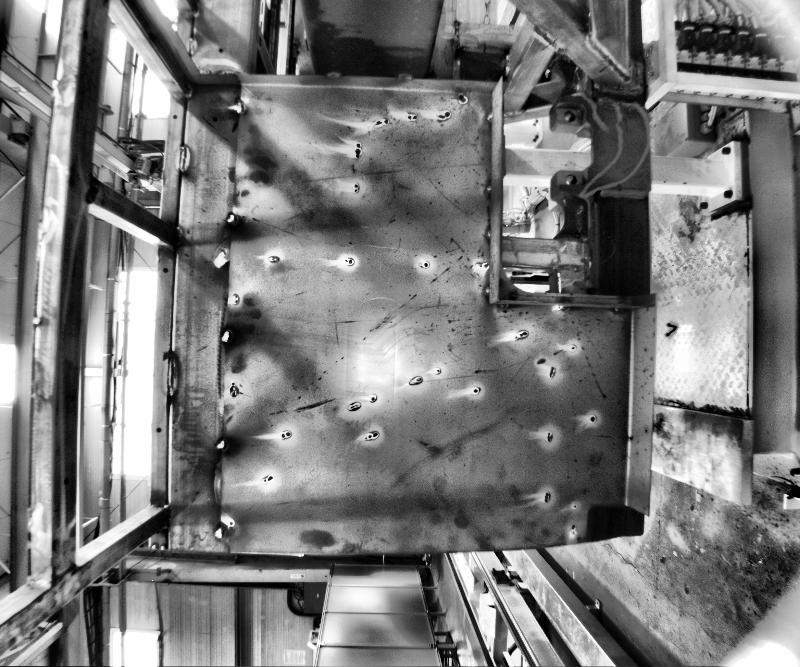hole: (562, 172, 576, 186), (565, 112, 579, 124), (216, 45, 226, 53), (212, 117, 220, 123), (162, 267, 170, 273), (156, 426, 162, 432), (175, 114, 179, 118)
welding: (589, 40, 627, 78), (532, 27, 556, 53), (168, 354, 178, 401), (217, 434, 233, 455), (226, 211, 242, 229), (187, 34, 199, 58), (178, 142, 188, 170), (234, 99, 246, 116), (397, 71, 414, 81), (174, 228, 182, 248), (485, 109, 497, 122), (222, 330, 234, 343), (215, 525, 227, 538), (610, 306, 628, 314), (485, 180, 496, 193), (484, 226, 492, 238), (552, 304, 570, 309), (329, 71, 341, 78), (484, 285, 490, 296), (496, 303, 506, 308)
